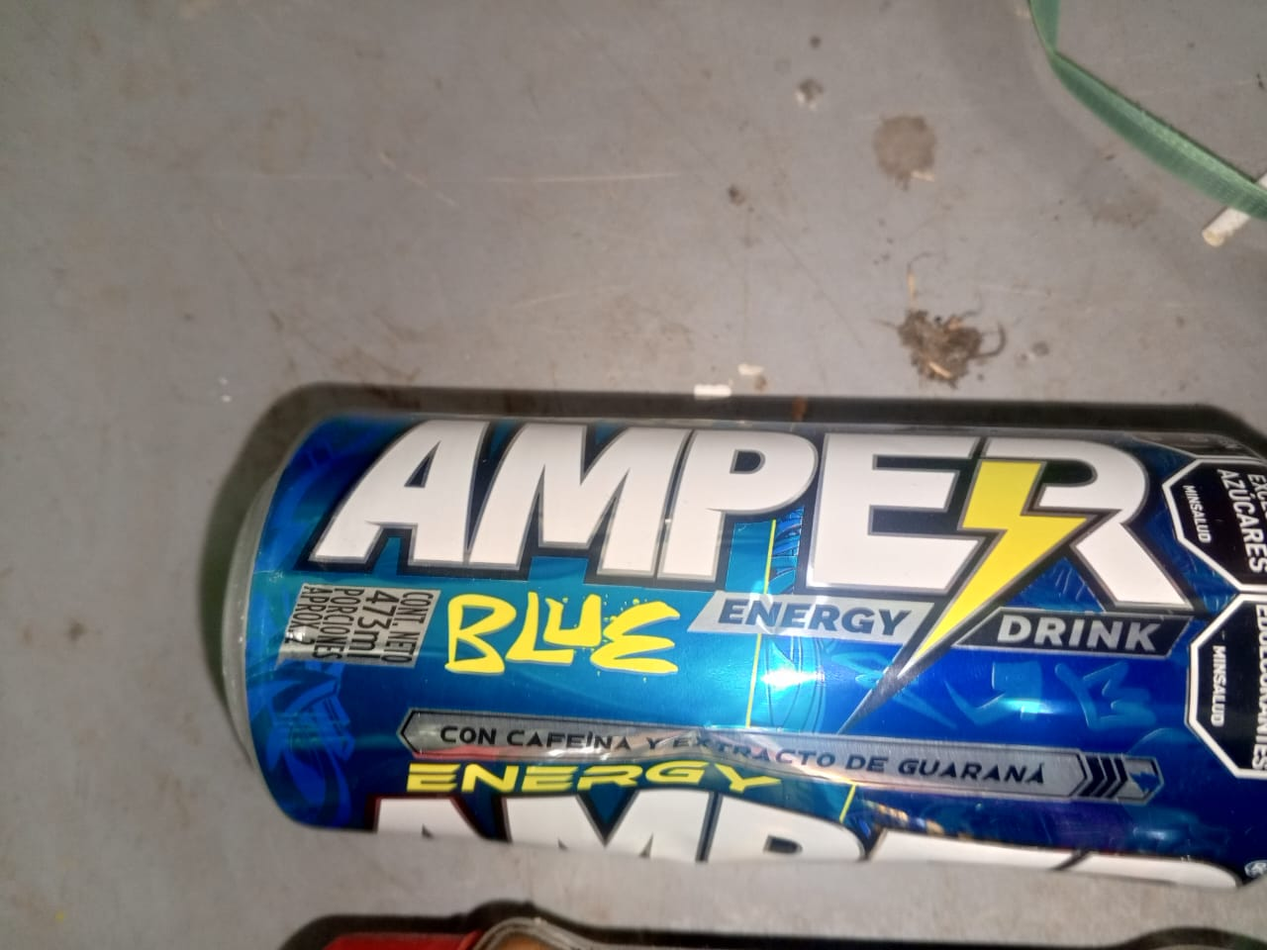Metal: (223, 415, 1267, 889)
